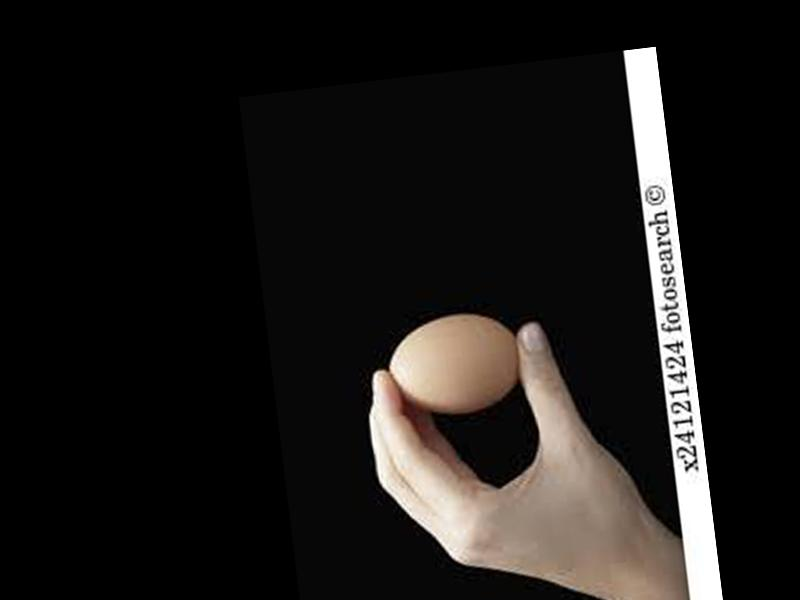Eggs: (380, 308, 525, 421)
